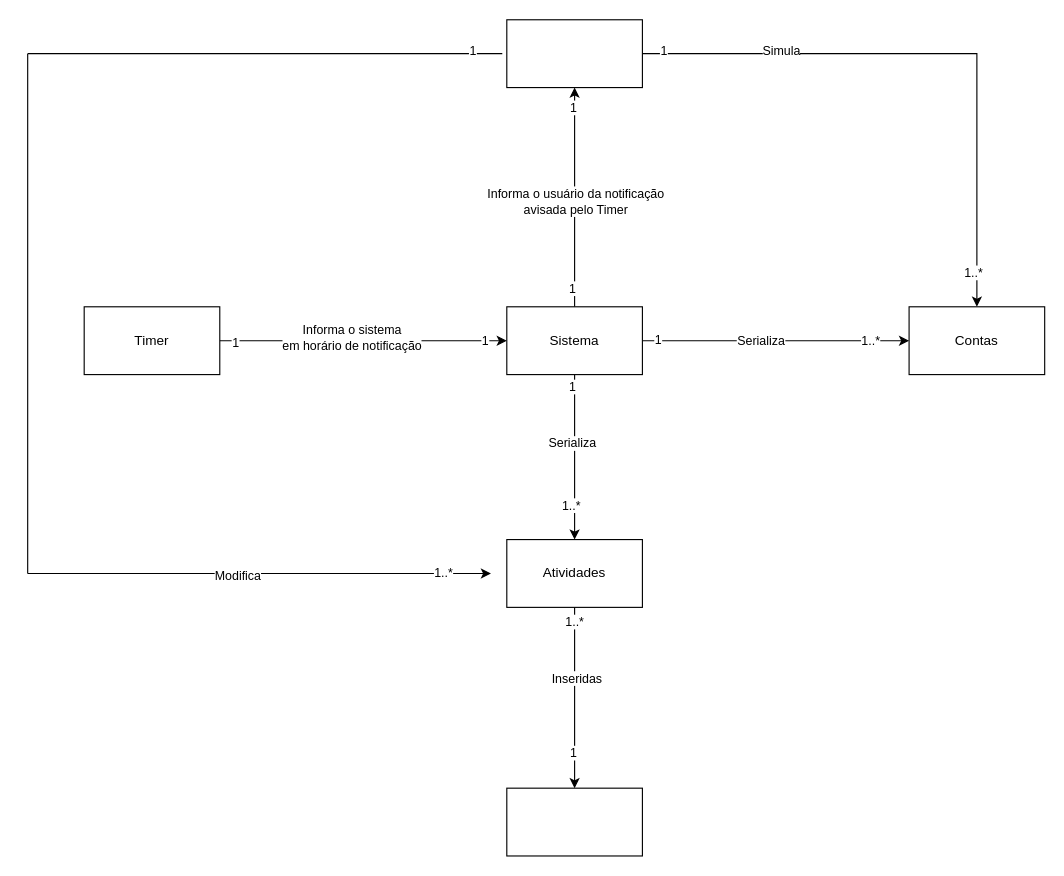
Some shapes in this 1064 by 876 pixel diagram are drawn without their labels. Here are the shapes that lost their labels. From the top down, the centre of each, then its label:
[574,53]: Usuário
[574,821]: Calendário
